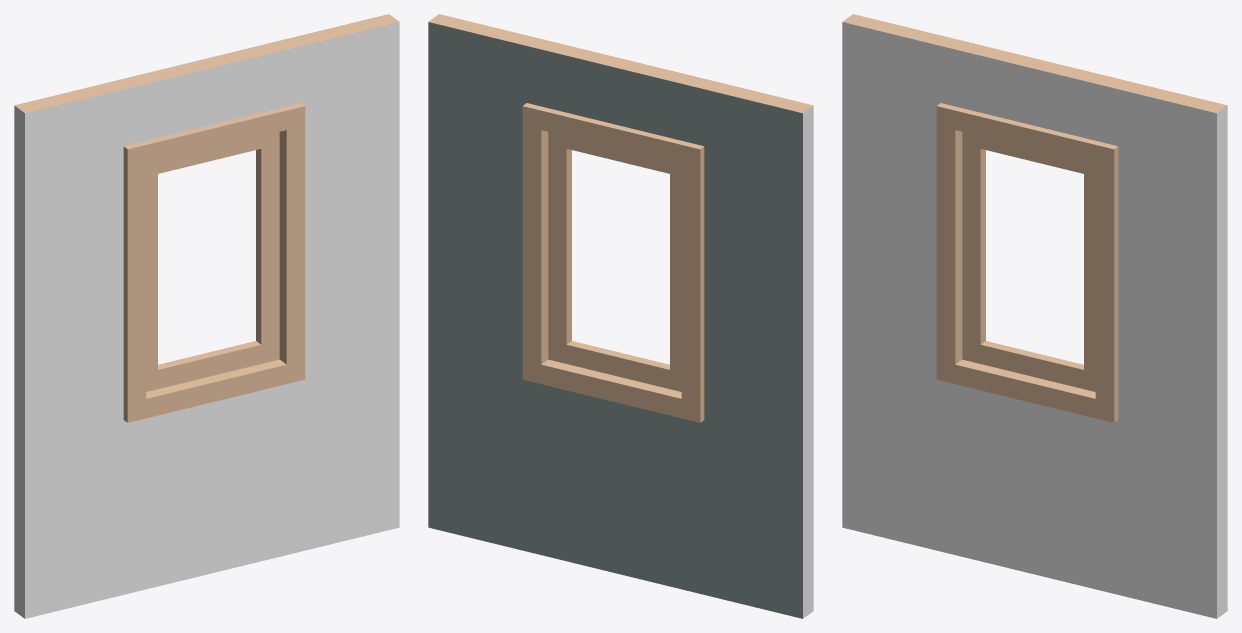
The model's file is wallWindowPort.glb.
3 renders of one model, left to right at view 1: azimuth 30°, elevation 25°; view 2: azimuth 150°, elevation 25°; view 3: azimuth 330°, elevation 25°, orthographic.
Visible parts, largest first — view 1: wallWindowPort; view 2: wallWindowPort; view 3: wallWindowPort.
Part boxes in pixels (x1,y1,x2,y2): wallWindowPort: [14, 14, 399, 618]; wallWindowPort: [428, 14, 813, 618]; wallWindowPort: [842, 14, 1227, 618].
Size of the model in its own units: 1 by 1.29 by 0.0891.
